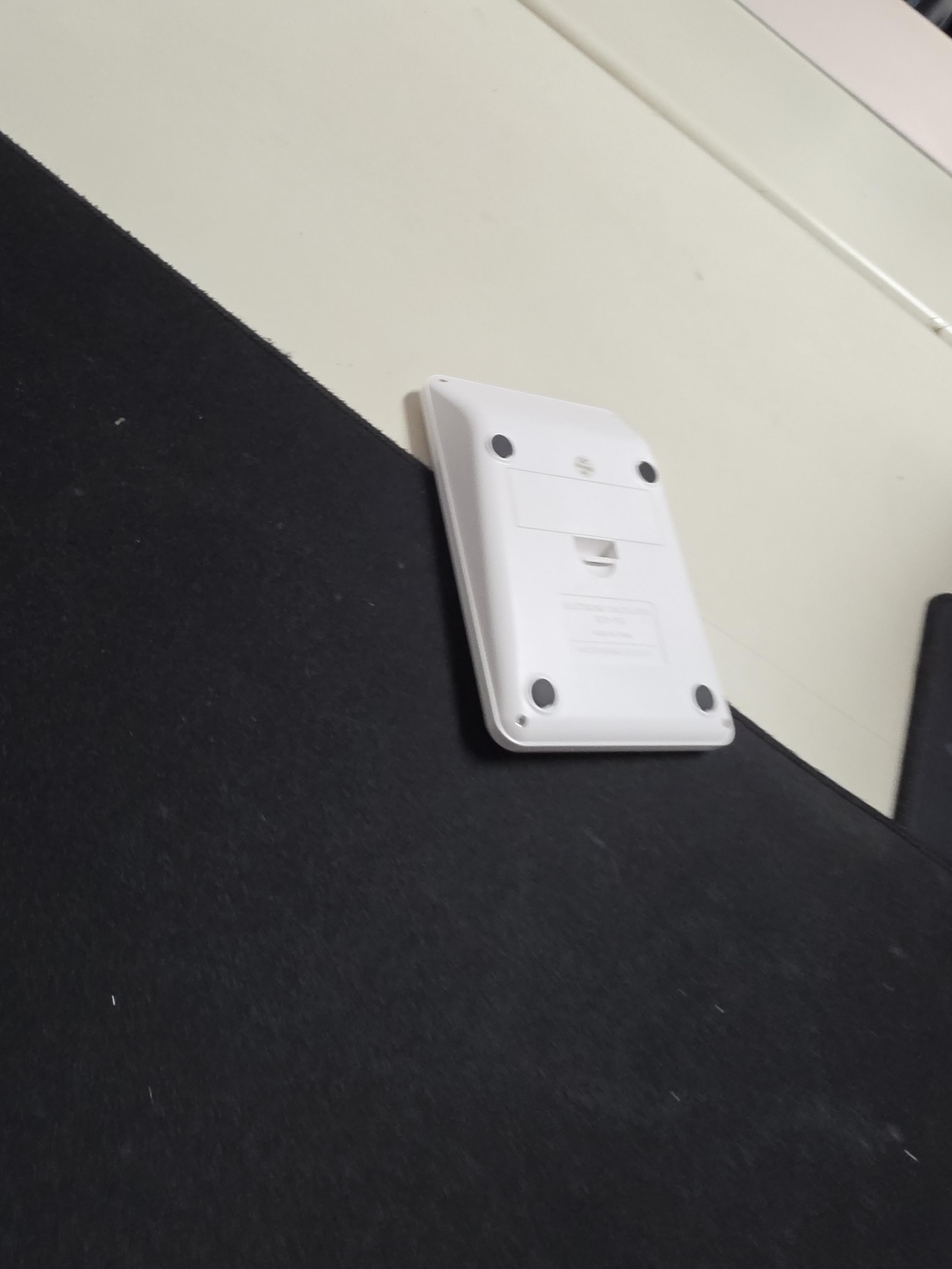calculator: (421, 375, 736, 753)
